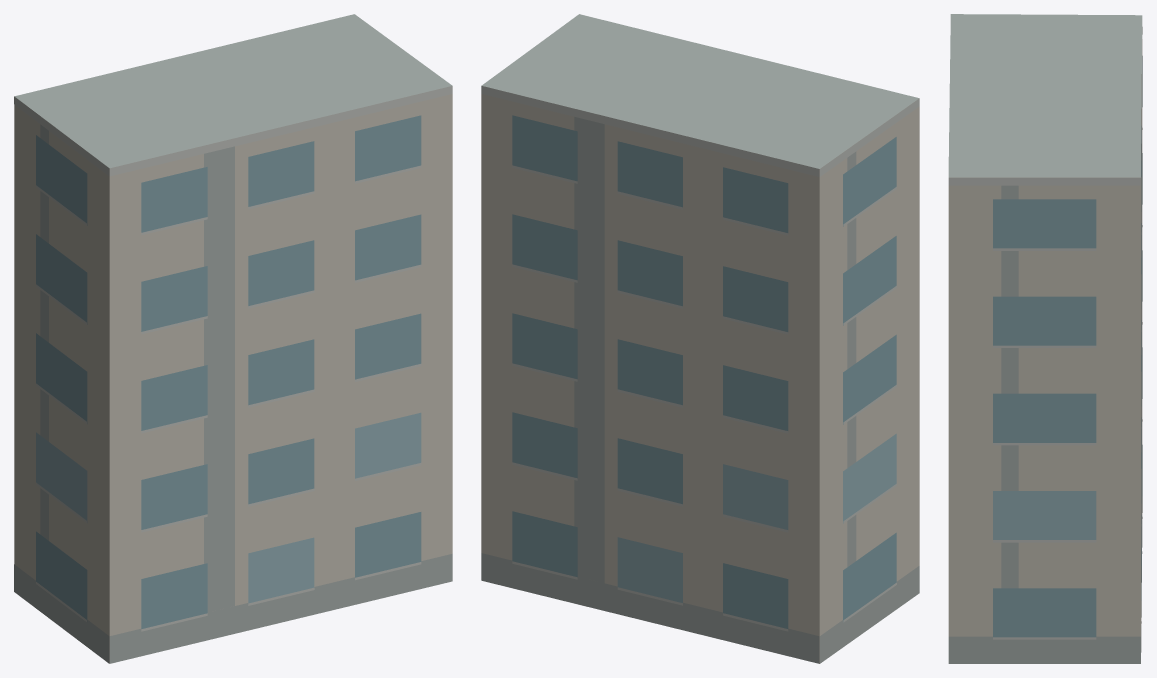
Rendered from survey-upis-32728787.glb.
3 renders of one model, left to right at view 1: azimuth 30°, elevation 25°; view 2: azimuth 150°, elevation 25°; view 3: azimuth 270°, elevation 25°, orthographic.
Visible parts, largest first — view 1: survey-upis-32728787.tmp; view 2: survey-upis-32728787.tmp; view 3: survey-upis-32728787.tmp.
Part boxes in pixels (x1=…): survey-upis-32728787.tmp: x1=14, y1=14, x2=452, y2=663; survey-upis-32728787.tmp: x1=481, y1=14, x2=919, y2=663; survey-upis-32728787.tmp: x1=948, y1=14, x2=1142, y2=663.
Bounding box in the file's own units: 10.71 × 14.8 × 5.37.
